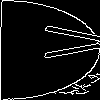V: (25, 25, 100, 59)
